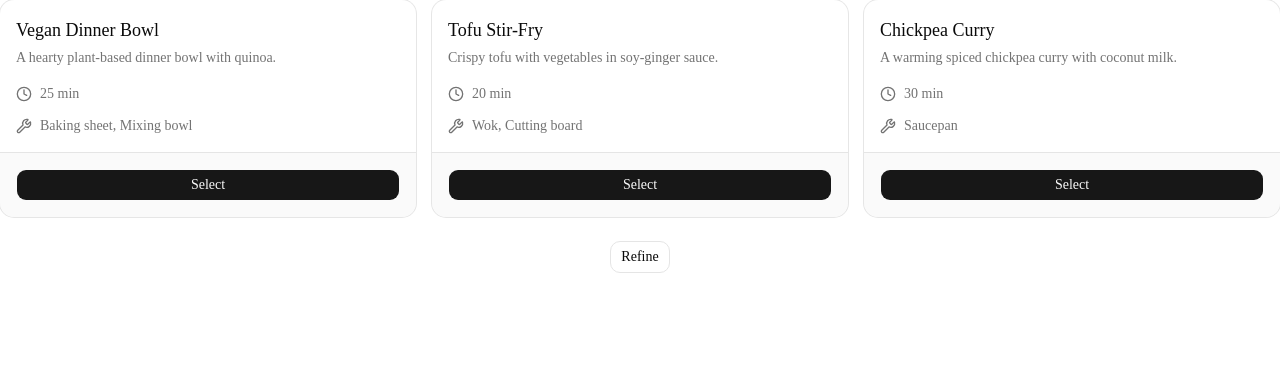
Test: IdeaCards › clicking Refine reveals a text input for refinement instructions
The image size is (1280, 366).
What coordinates should you click on to do the following:
click the button "Refine"
I would click on:
 (640, 257)
Its box is [610,241,670,273].
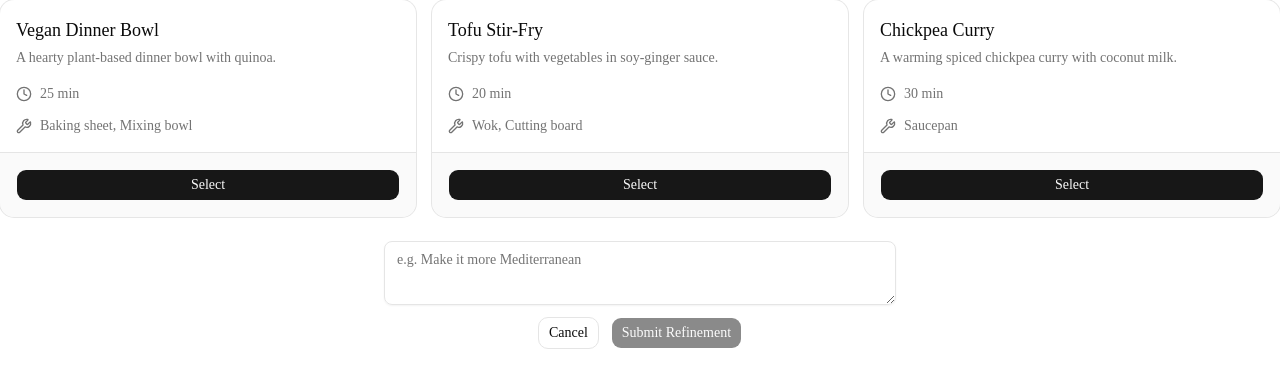
Now the text box named "refinement instructions" is shown, box [384,241,896,305]
Now the button "Submit Refinement" is shown, box [611,317,742,349]
Now the button "Cancel" is shown, box [538,317,599,349]
